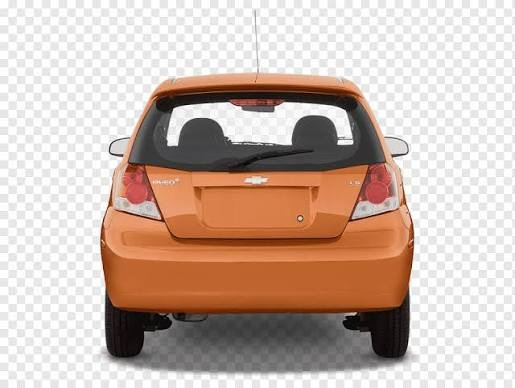car: (96, 66, 423, 372)
